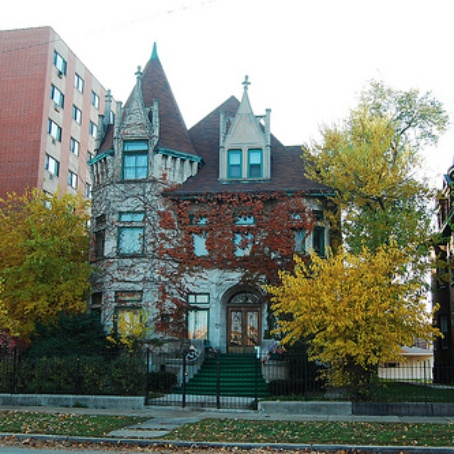building: (93, 61, 342, 349), (1, 39, 109, 201)
sky: (129, 1, 454, 105)
tree: (270, 104, 440, 402), (275, 246, 440, 401), (1, 194, 97, 354)
